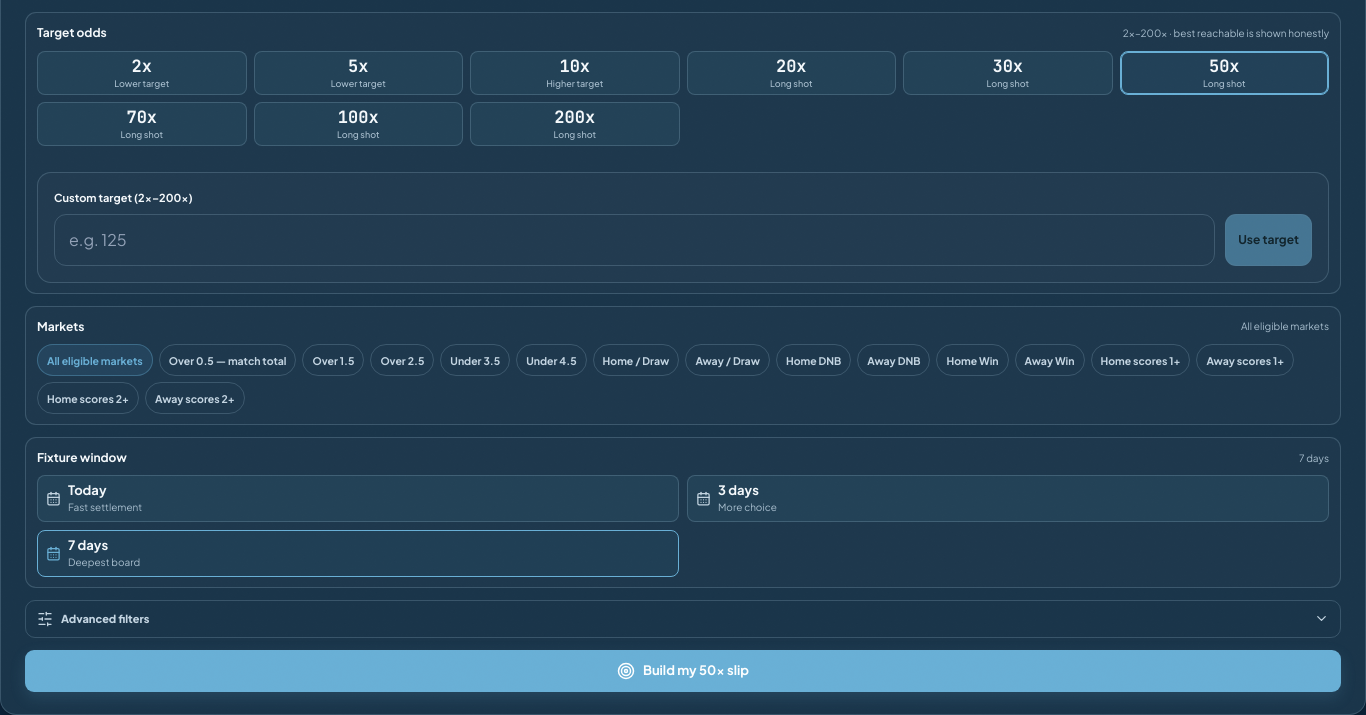
Scenario: reset filters clears original V2 include and exclude controls
(page scrolled)
Click the heading "Advanced filters" at (105, 619), box [37,611,1329,627]
(page scrolled)
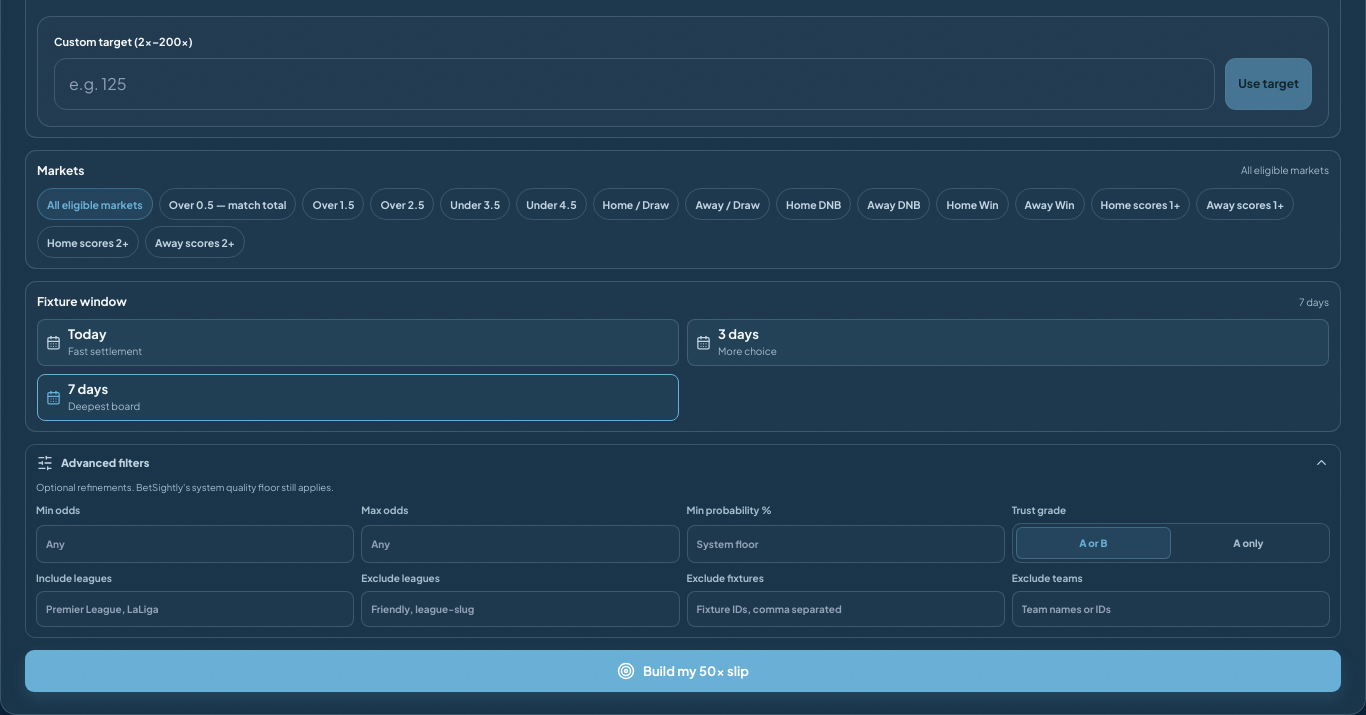
Type "Premier League" into the field labelled "Include leagues" at (195, 610), box [36,592,354,628]
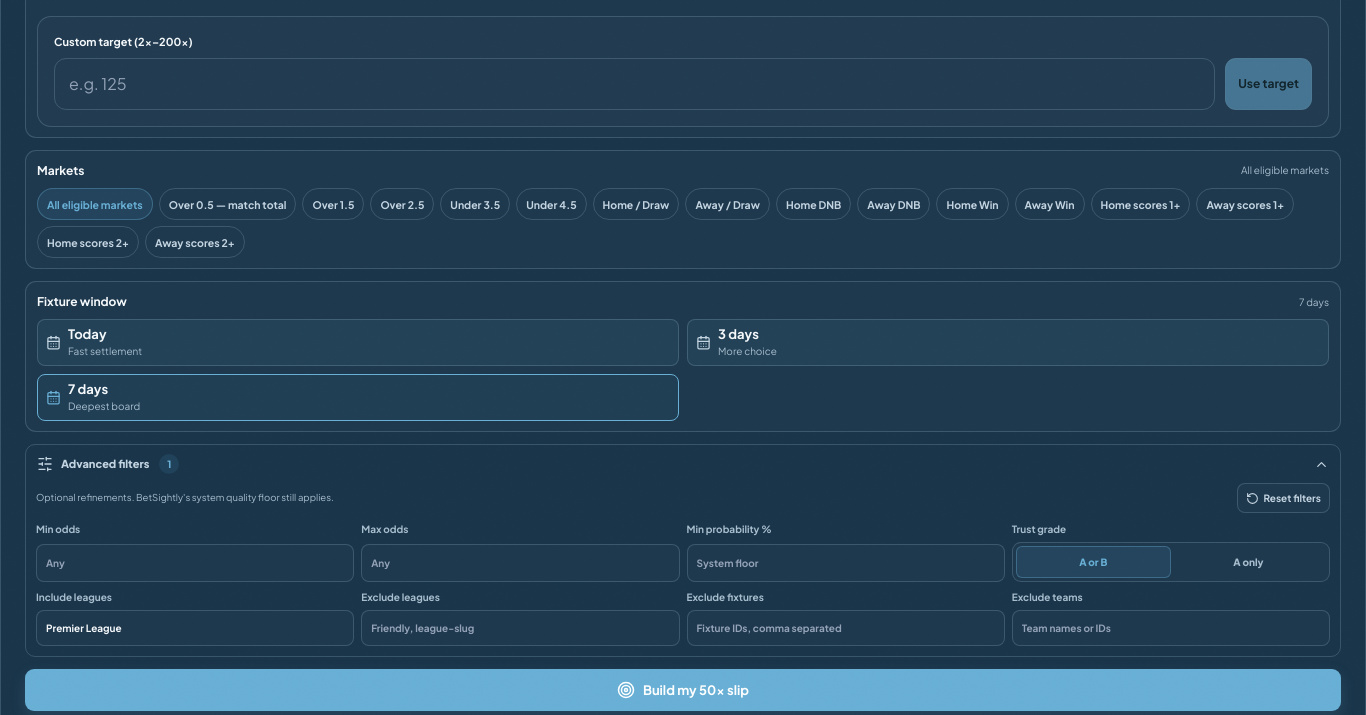
Type "fx-1" into the field labelled "Exclude fixtures" at (846, 628), box [686,610,1005,646]
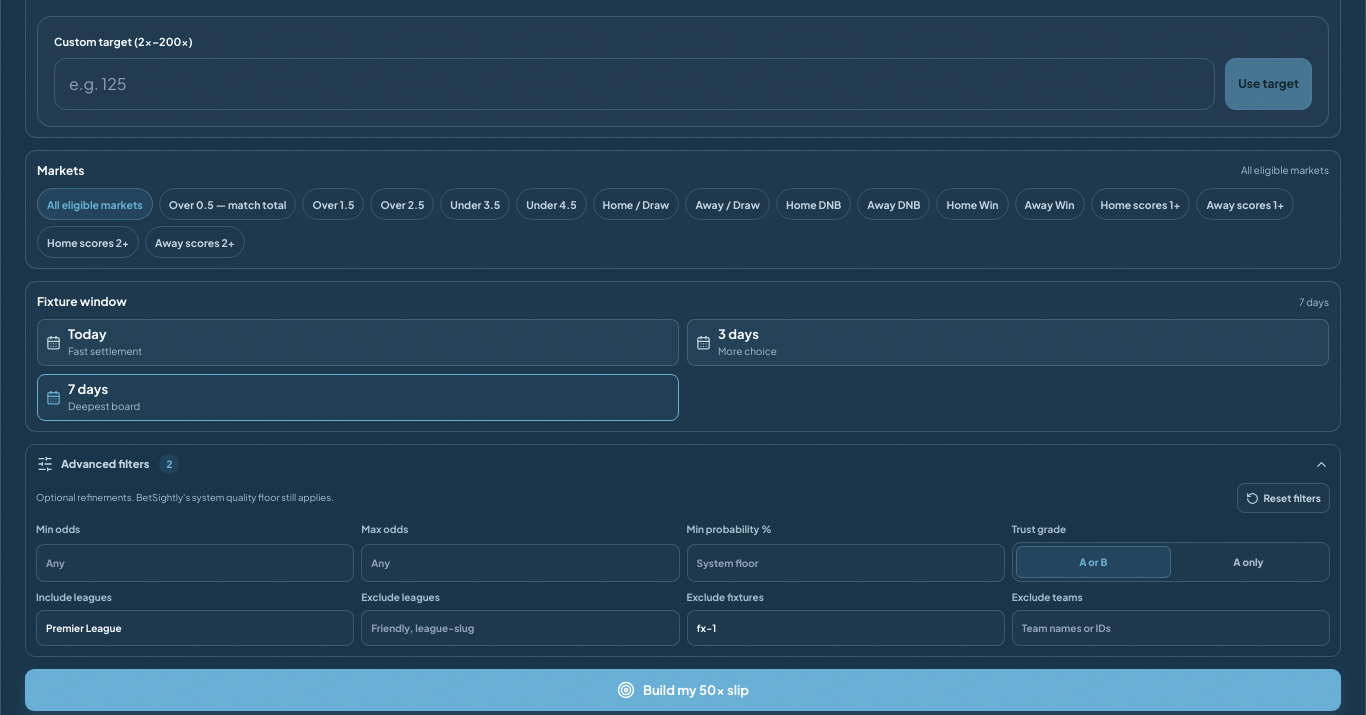
Click the button "Reset filters" at (1283, 498), box [1236,483,1330,513]
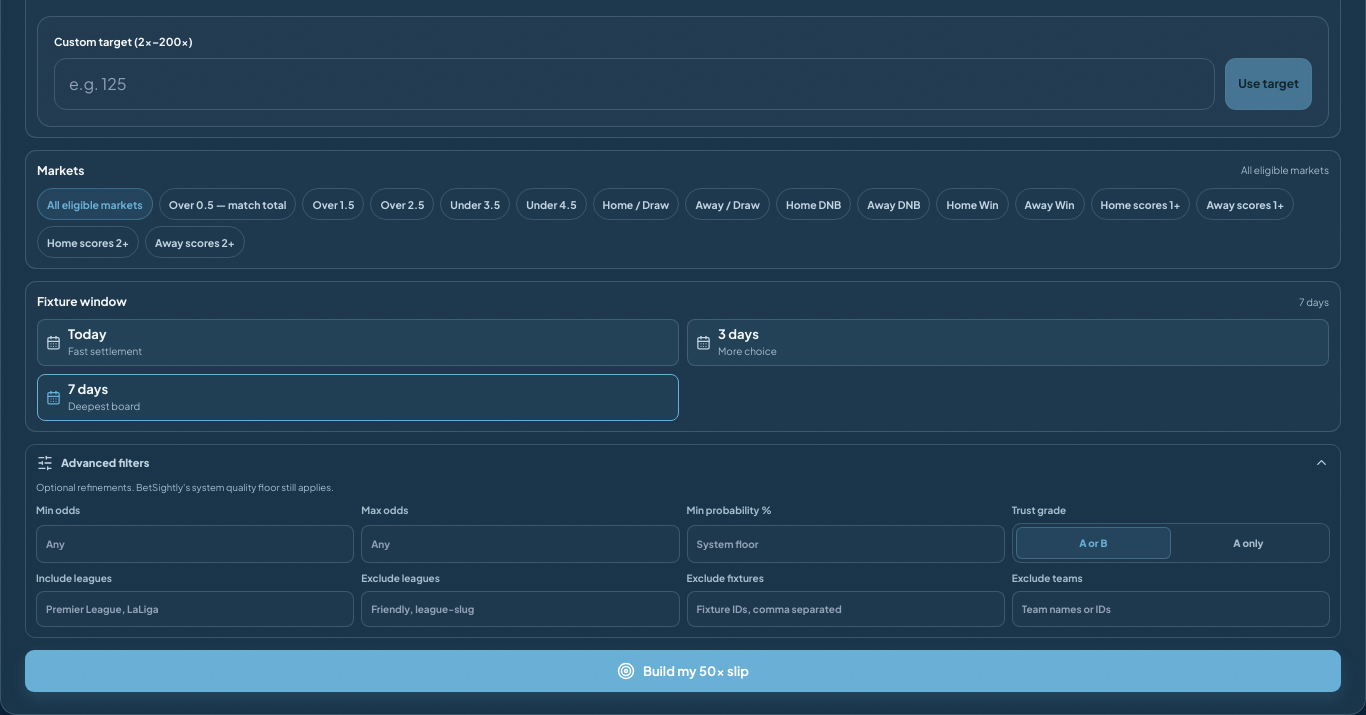
Expected: the field labelled "Include leagues" is empty, [36,592,354,628]
Expected: the field labelled "Exclude fixtures" is empty, [686,592,1005,628]
